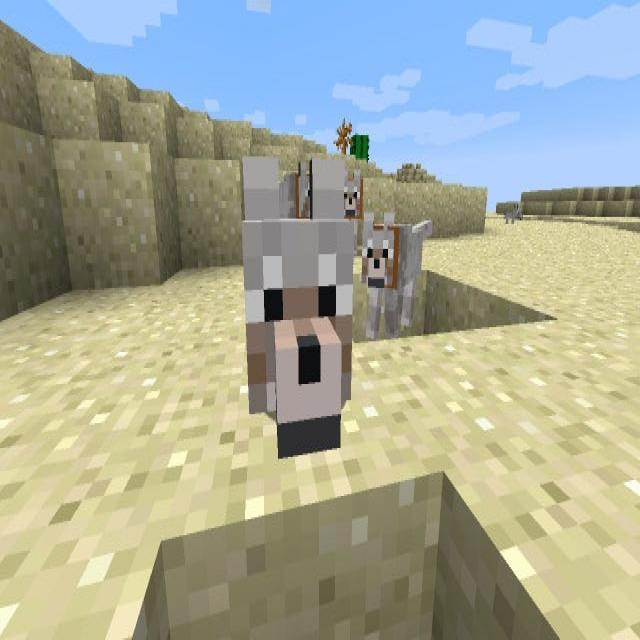Wolf: (239, 154, 353, 460), (363, 217, 433, 339), (245, 156, 324, 255), (320, 162, 363, 256)
